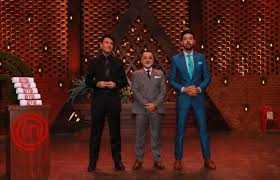Bad: (131, 29, 215, 169), (86, 36, 166, 171)
